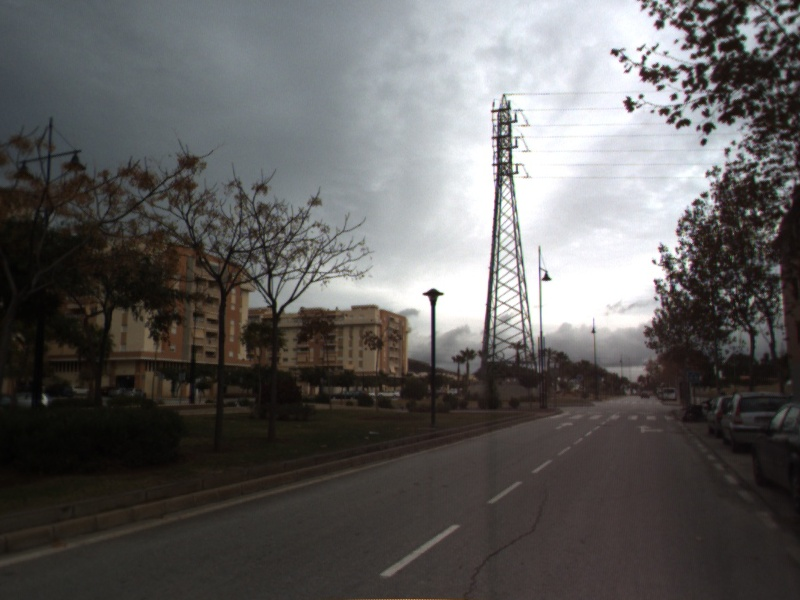STRAIGHT: (553, 419, 577, 431)
STRAIGHT_RIGHT: (634, 422, 667, 436)
